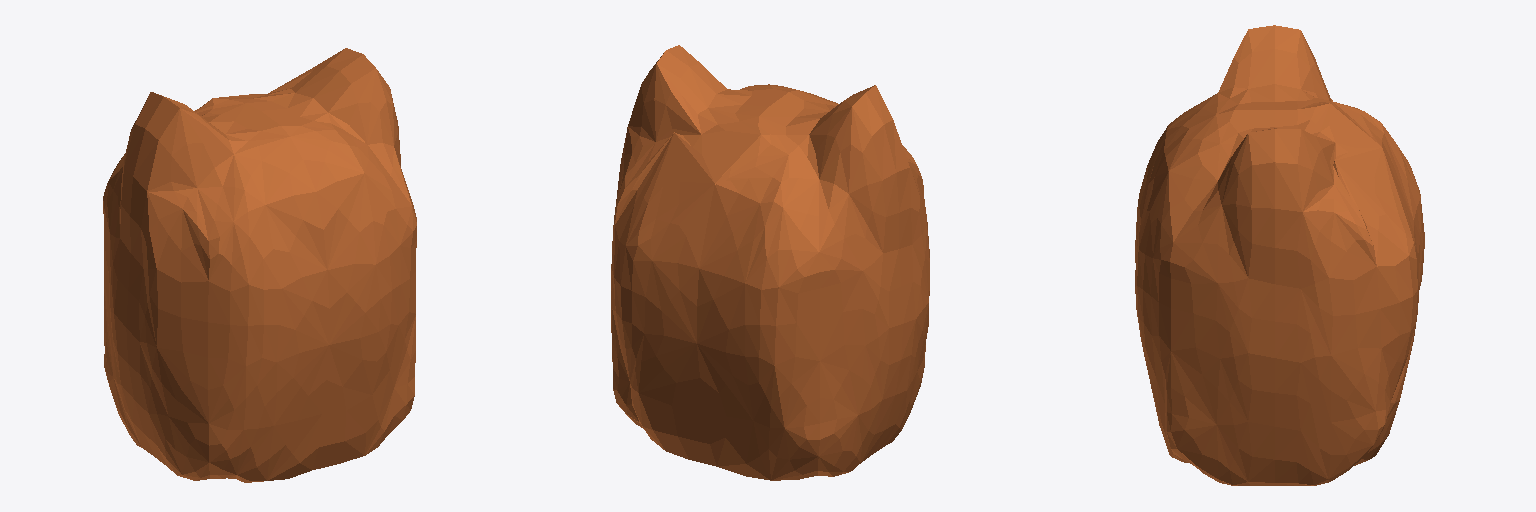
3 views of the same model, side by side, from view 1: azimuth 30°, elevation 25°; view 2: azimuth 150°, elevation 25°; view 3: azimuth 270°, elevation 25° (orthographic).
Parts seen in each view (by area): view 1: Mesh1Group1Model; view 2: Mesh1Group1Model; view 3: Mesh1Group1Model.
Boxes of the visible parts, <box> form: Mesh1Group1Model: <box>103,48,416,482</box>; Mesh1Group1Model: <box>611,45,929,480</box>; Mesh1Group1Model: <box>1135,25,1424,485</box>.
Bounding box in the file's own units: 0.67 × 0.8913 × 0.6346.
Materials: 1 (1 with a texture image).